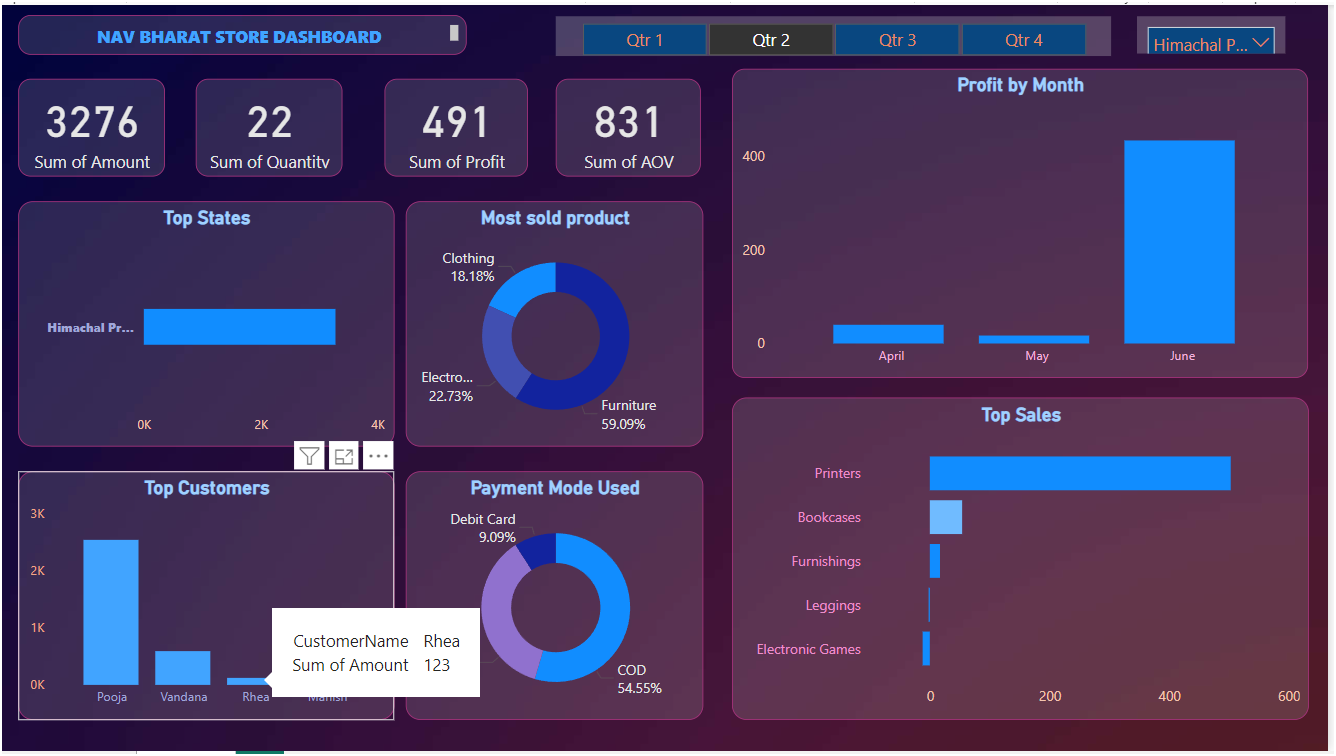

The page's visual inventory and layout, read from the dashboard file:
{"tool":"powerbi","page":{"name":"Page 1","canvas":[1280,720],"ordinal":0},"visuals":[{"type":"textbox","box":[15.7,10,432.9,38.6],"z":0},{"type":"columnChart","title":"Profit by Month","fields":{"Category":["Orders.Order Date.Variation.Date Hierarchy.Month"],"Y":["Details.Profit"]},"box":[704.3,61.4,555.7,298.6],"z":1000},{"type":"barChart","title":"Top G","fields":{"Category":["Details.Sub-Category"],"Y":["Details.Profit"]},"box":[704.3,378.6,557.1,311.4],"z":2000},{"type":"donutChart","fields":{"Category":["Details.Category"],"Y":["Details.Quantity"]},"box":[390,190,287.1,237.1],"z":3000},{"type":"donutChart","fields":{"Category":["Details.PaymentMode"],"Y":["Details.Quantity"]},"box":[390,450,287.1,240],"z":4000},{"type":"card","fields":{"Values":["Details.Amount"]},"box":[15.7,71.4,141.4,94.3],"z":5000},{"type":"card","fields":{"Values":["Details.Quantity"]},"box":[187.1,71.4,141.4,94.3],"z":6000},{"type":"card","fields":{"Values":["Details.Profit"]},"box":[368.6,71.4,138.6,94.3],"z":7000},{"type":"card","fields":{"Values":["Details.AOV"]},"box":[534.3,71.4,140,94.3],"z":8000},{"type":"barChart","title":"Top G","fields":{"Category":["Orders.State"],"Y":["Details.Amount"]},"box":[15.7,190,362.9,237.1],"z":9000},{"type":"columnChart","fields":{"Category":["Orders.CustomerName"],"Y":["Details.Amount"]},"box":[15.7,450,362.9,240],"z":10000},{"type":"slicer","fields":{"Values":["Orders.Order Date.Variation.Date Hierarchy.Quarter"]},"box":[534.3,11.4,535.7,38.6],"z":11000},{"type":"slicer","fields":{"Values":["Orders.State"]},"box":[1095.7,11.4,142.9,35.7],"z":11001}]}

Visuals, with their boxes in screenshot pixels (x1, y1, x2, y2), scaled from the page's 1280x720 canvas onto the 1336x756 screenshot:
textbox: select_region(16, 10, 468, 51)
"Profit by Month" columnChart: select_region(735, 64, 1315, 378)
"Top G" barChart: select_region(735, 398, 1317, 724)
donutChart - Details.Category x Details.Quantity: select_region(407, 200, 707, 448)
donutChart - Details.PaymentMode x Details.Quantity: select_region(407, 472, 707, 724)
card - Details.Amount: select_region(16, 75, 164, 174)
card - Details.Quantity: select_region(195, 75, 343, 174)
card - Details.Profit: select_region(385, 75, 529, 174)
card - Details.AOV: select_region(558, 75, 704, 174)
"Top G" barChart: select_region(16, 200, 395, 448)
columnChart - Orders.CustomerName x Details.Amount: select_region(16, 472, 395, 724)
slicer - Orders.Order Date.Variation.Date Hierarchy.Quarter: select_region(558, 12, 1117, 52)
slicer - Orders.State: select_region(1144, 12, 1293, 49)
